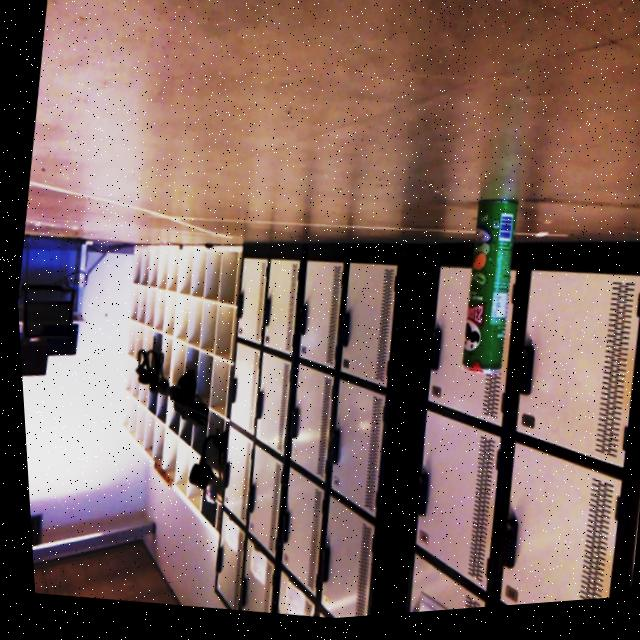greenpringles: (426, 188, 537, 414)
